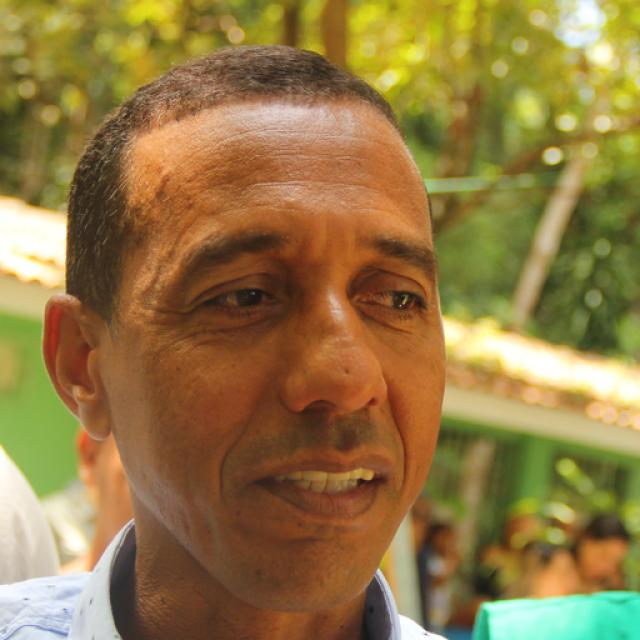Wrinkle: (183, 121, 405, 163), (246, 173, 398, 199), (214, 405, 251, 511), (391, 384, 413, 504), (206, 198, 287, 223)
